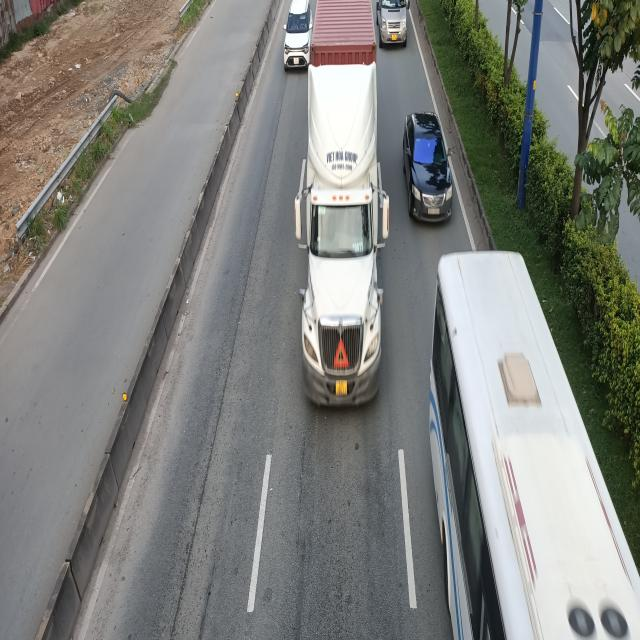car: (403, 110, 454, 224), (282, 0, 316, 70)
coach: (428, 255, 640, 640)
container: (297, 0, 390, 404)
van: (376, 0, 409, 51)
